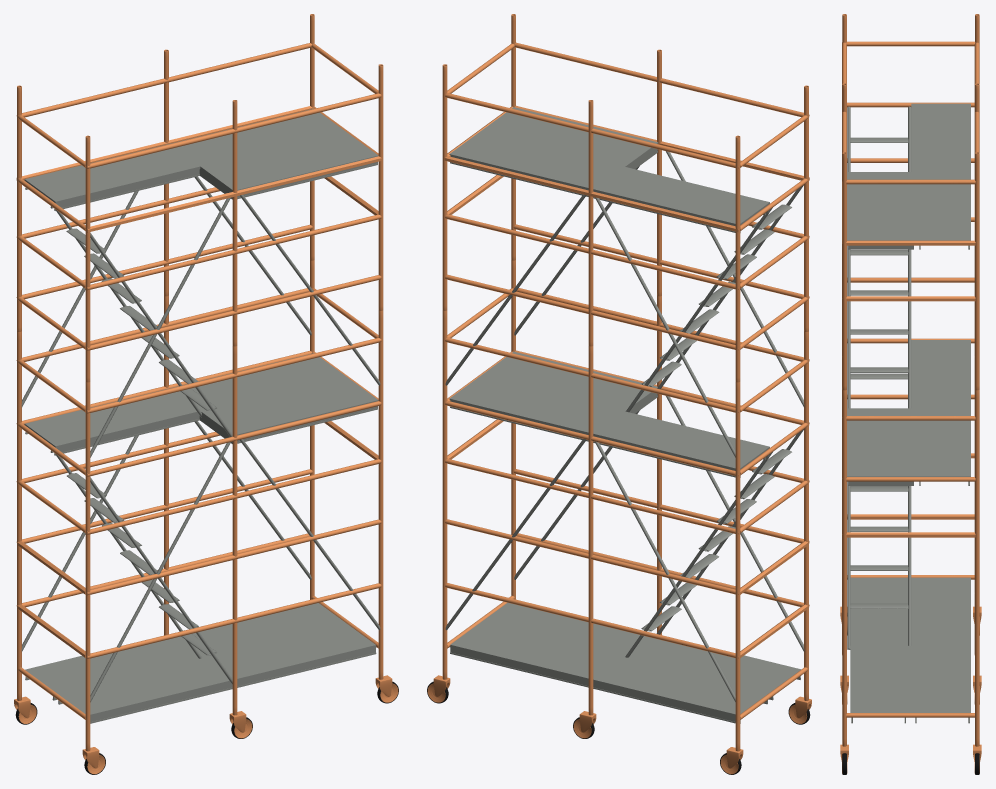
Rendered from scaffolding_2tier_steps.fbx.
3 renders of one model, left to right at view 1: azimuth 30°, elevation 25°; view 2: azimuth 150°, elevation 25°; view 3: azimuth 270°, elevation 25°, orthographic. The views are drawn at different scales.
Visible parts, largest first — view 1: top plate.001, bottome plate.001, bottome plate, v1F_pole, v2F_pole, v1F_pole.001, hLshort1_pole.015, v3B_pole, hLshort1_pole.016, hLshort1_pole.004, hLshort1_pole.003, hLshort1_pole.005 (+29 smaller); view 2: top plate.001, bottome plate.001, bottome plate, v3B_pole, v3B_pole.001, v4B_pole, hLshort1_pole.020, v1F_pole, hLshort1_pole.009, hLshort1_pole.021, hLshort1_pole.016, hLshort1_pole.010 (+27 smaller); view 3: top plate.001, bottome plate.001, bottome plate, v2F_pole, v4B_pole, v2F_pole.001, v4B_pole.001, lower3_crossbar.005, lower1_crossbar.005, hRlong2_pole, hRlong2_pole.002, hRlong3_pole.001 (+26 smaller).
Boxes of the visible parts, <box> form: top plate.001: <box>25,603,376,723</box>; bottome plate.001: <box>24,108,378,210</box>; bottome plate: <box>24,353,378,455</box>; v1F_pole: <box>85,382,90,751</box>; v2F_pole: <box>378,310,383,679</box>; v1F_pole.001: <box>232,346,237,715</box>; hLshort1_pole.015: <box>87,156,381,232</box>; v3B_pole: <box>17,331,21,700</box>; hLshort1_pole.016: <box>87,93,381,168</box>; hLshort1_pole.004: <box>87,401,381,476</box>; hLshort1_pole.003: <box>87,459,381,534</box>; hLshort1_pole.005: <box>87,337,381,413</box>; top plate.001: <box>449,602,801,723</box>; bottome plate.001: <box>449,107,769,232</box>; bottome plate: <box>449,351,769,477</box>; v3B_pole: <box>735,382,740,751</box>; v3B_pole.001: <box>588,346,593,715</box>; v4B_pole: <box>442,310,447,679</box>; hLshort1_pole.020: <box>444,156,740,232</box>; v1F_pole: <box>804,331,808,700</box>; hLshort1_pole.009: <box>445,400,740,475</box>; hLshort1_pole.021: <box>445,93,738,168</box>; hLshort1_pole.016: <box>514,42,809,117</box>; hLshort1_pole.010: <box>445,337,740,412</box>; top plate.001: <box>850,577,970,723</box>; bottome plate.001: <box>847,103,970,249</box>; bottome plate: <box>847,340,970,485</box>; v2F_pole: <box>842,390,846,746</box>; v4B_pole: <box>975,390,979,746</box>; v2F_pole.001: <box>842,152,846,390</box>; v4B_pole.001: <box>975,152,979,390</box>; lower3_crossbar.005: <box>847,106,850,408</box>; lower1_crossbar.005: <box>908,106,911,408</box>; hRlong2_pole: <box>846,532,975,537</box>; hRlong2_pole.002: <box>846,296,975,301</box>; hRlong3_pole.001: <box>846,179,975,184</box>.
Bounding box in the file's own units: 325 × 634 × 132.
